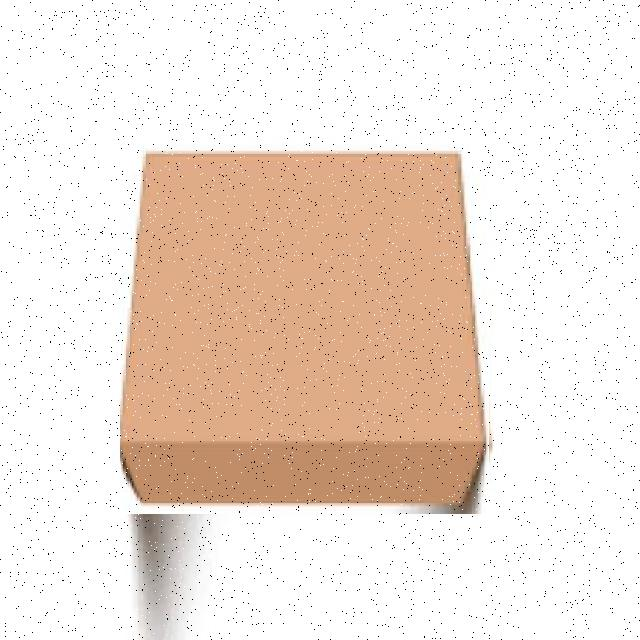normal: (120, 140, 489, 514)
